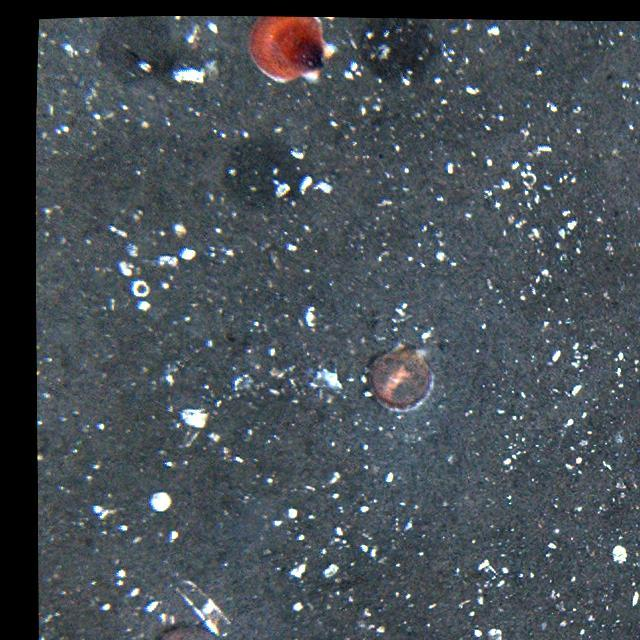scallop: (244, 12, 338, 93), (371, 340, 438, 412)
